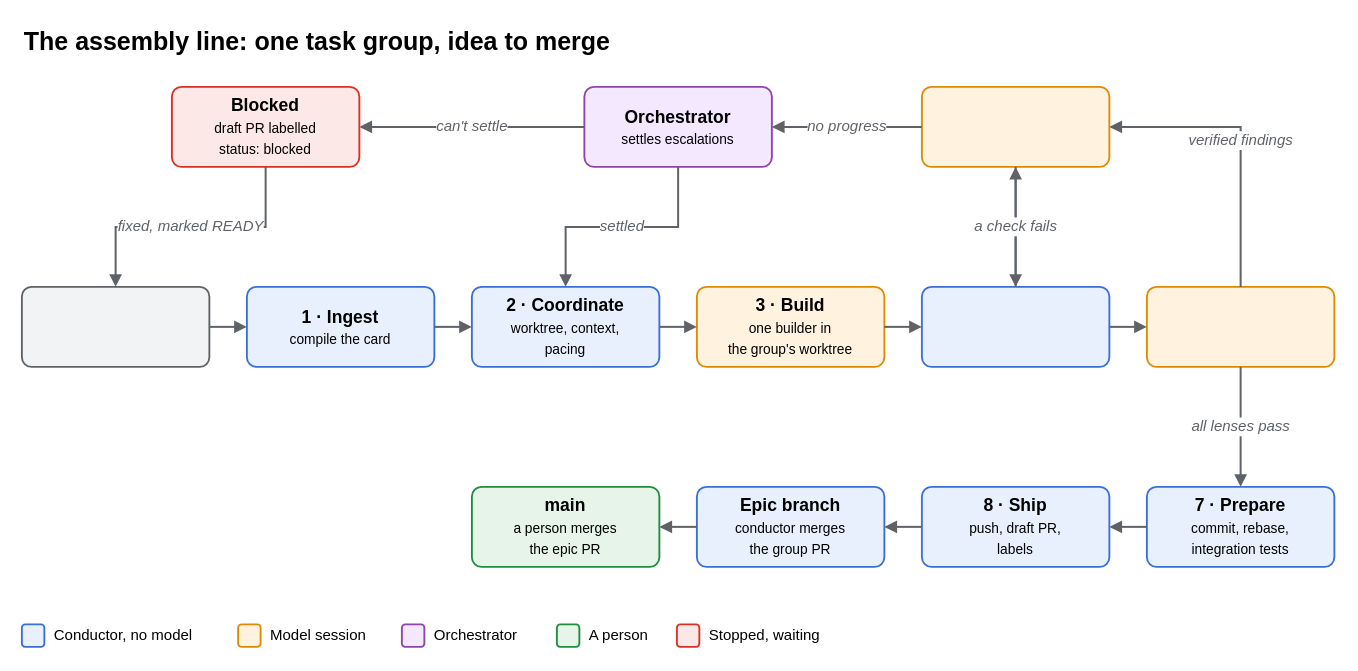
The diagram is 1358 pixels wide and 671 high, and some of its shapes have lost their labels. The shapes that lost their labels are listed below. From the top down, each one's box as (x1, y1, x2, y2) in pixels, then its label:
(920, 85, 1110, 167): 6 · Repair builder resumed with the fix list
(20, 285, 210, 367): READY group docs/backlog/
(920, 285, 1110, 367): 4 · Check checks and validators
(1145, 285, 1335, 367): 5 · Review parallel lenses, fresh context
